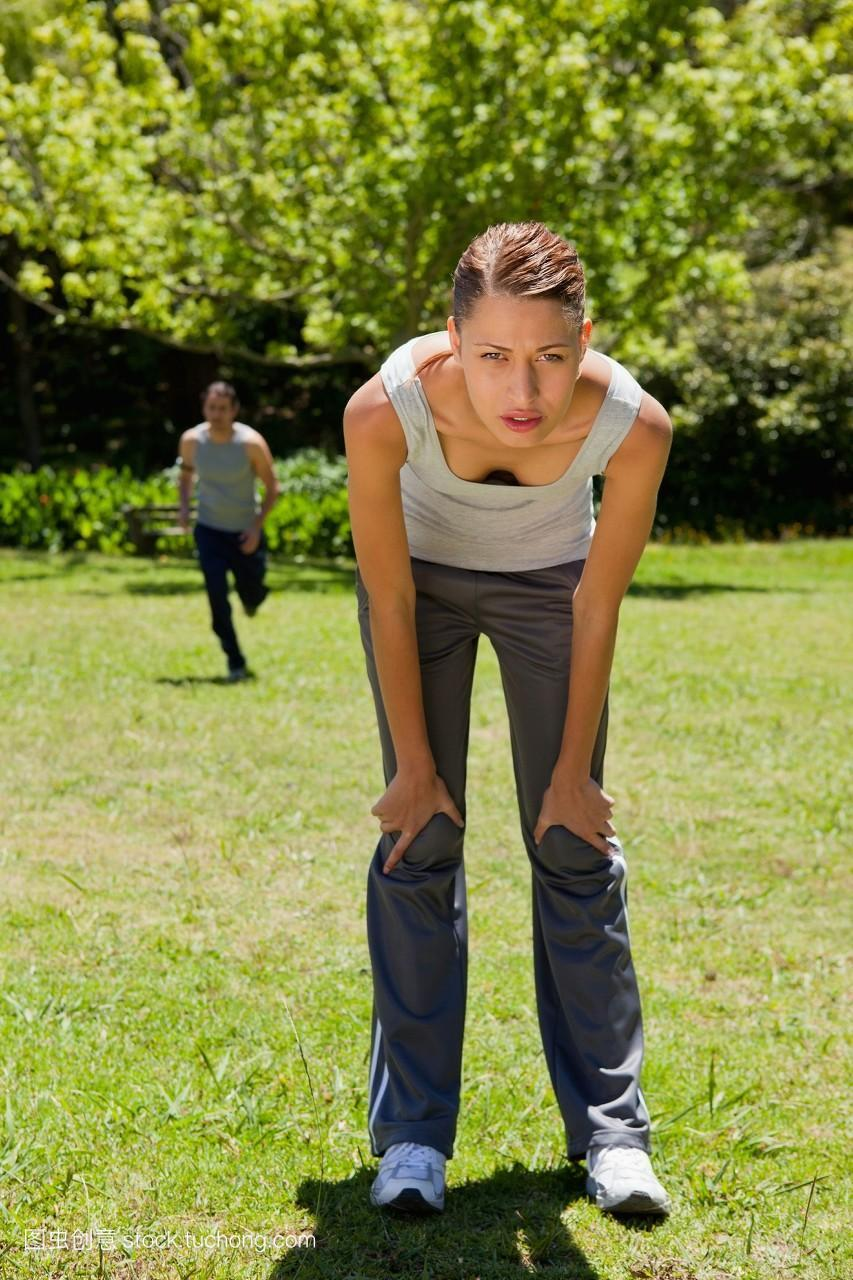bending: (337, 224, 711, 1220)
up: (161, 382, 282, 697)
